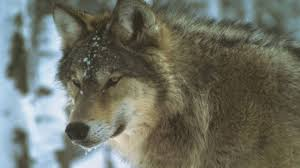wolf: (58, 14, 291, 168)
